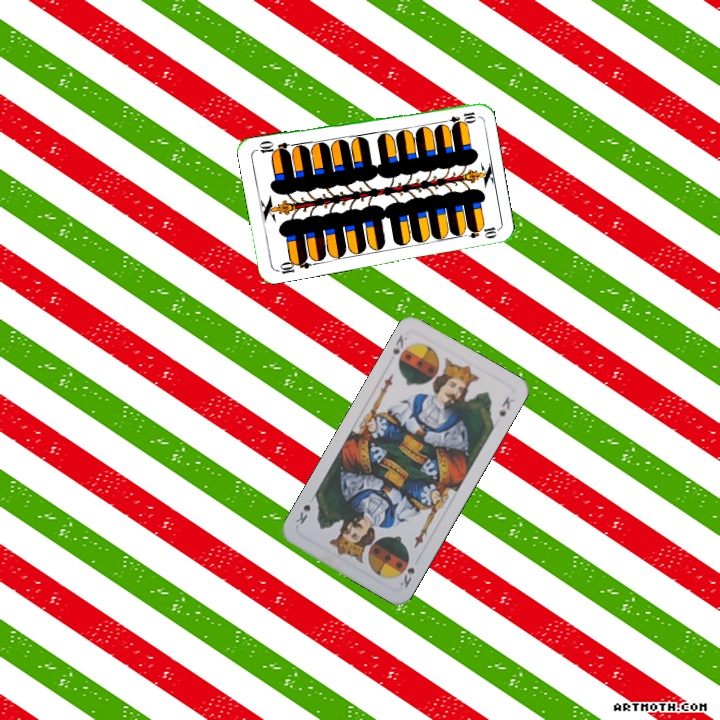E10: (273, 253, 313, 277), (438, 107, 479, 127)
SK: (395, 563, 417, 591), (388, 331, 410, 357)
